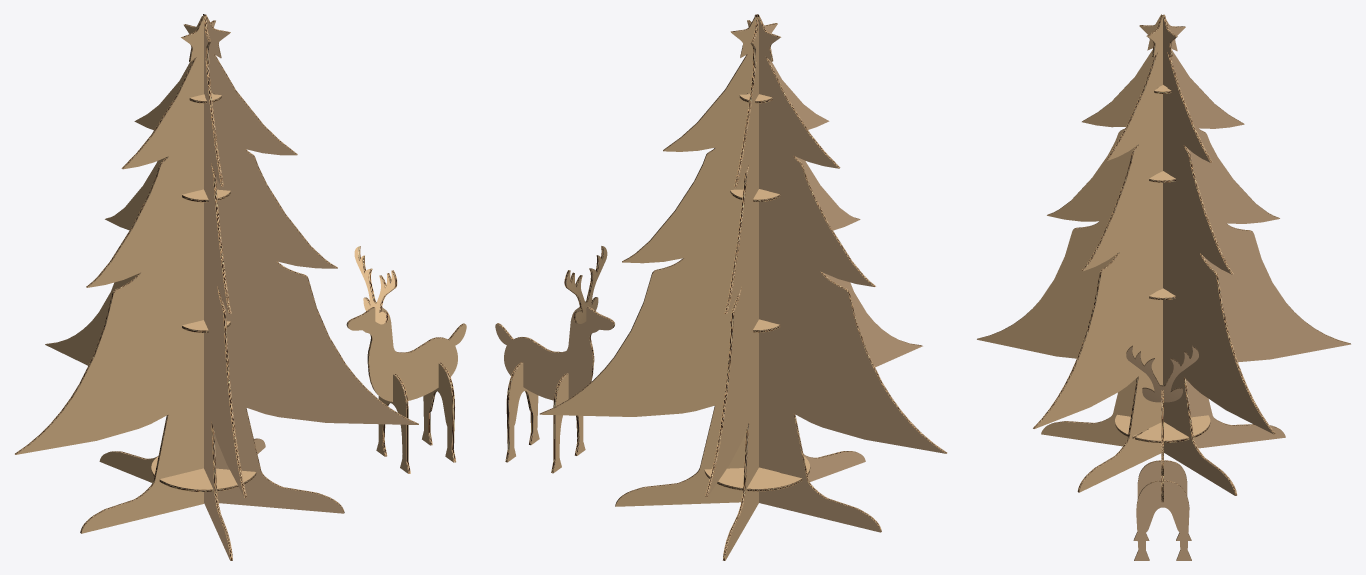
File: arbol y ciervo.gltf
3 renders of one model, left to right at view 1: azimuth 30°, elevation 25°; view 2: azimuth 150°, elevation 25°; view 3: azimuth 270°, elevation 25°, orthographic. The views are drawn at different scales.
Visible parts, largest first — view 1: Curve.018, Curve.025, Curve.026, Curve.010, Curve.023, Curve.008, Curve.019, Curve.007, Curve.006; view 2: Curve.018, Curve.024, Curve.023, Curve.010, Curve.026, Curve.008, Curve.019, Curve.007, Curve.006; view 3: Curve.025, Curve.024, Curve.023, Curve.026, Curve.008, Curve.006, Curve.019, Curve.007.
Boxes of the visible parts, x1,y1,x2,y2 form: Curve.018: (15,16,203,533); Curve.025: (206,14,418,513); Curve.026: (203,15,246,560); Curve.010: (346,307,466,401); Curve.023: (45,15,203,482); Curve.008: (422,362,456,462); Curve.019: (151,456,256,491); Curve.007: (376,373,410,473); Curve.006: (354,246,397,324); Curve.018: (759,16,947,532); Curve.024: (539,15,755,506); Curve.023: (705,17,758,560); Curve.010: (495,306,614,400); Curve.026: (757,14,922,481); Curve.008: (505,362,539,462); Curve.019: (704,456,810,491); Curve.007: (551,373,585,473); Curve.006: (564,246,607,323); Curve.025: (1033,15,1162,492); Curve.024: (1163,14,1275,495); Curve.023: (1166,20,1350,448); Curve.026: (977,14,1161,446); Curve.008: (1134,480,1191,560); Curve.006: (1126,345,1198,402); Curve.019: (1115,414,1210,442); Curve.007: (1133,460,1191,540).
Size of what is drawn, in the model's own units: 1.32 by 1.38 by 1.06.
39 materials, 13 textured.
